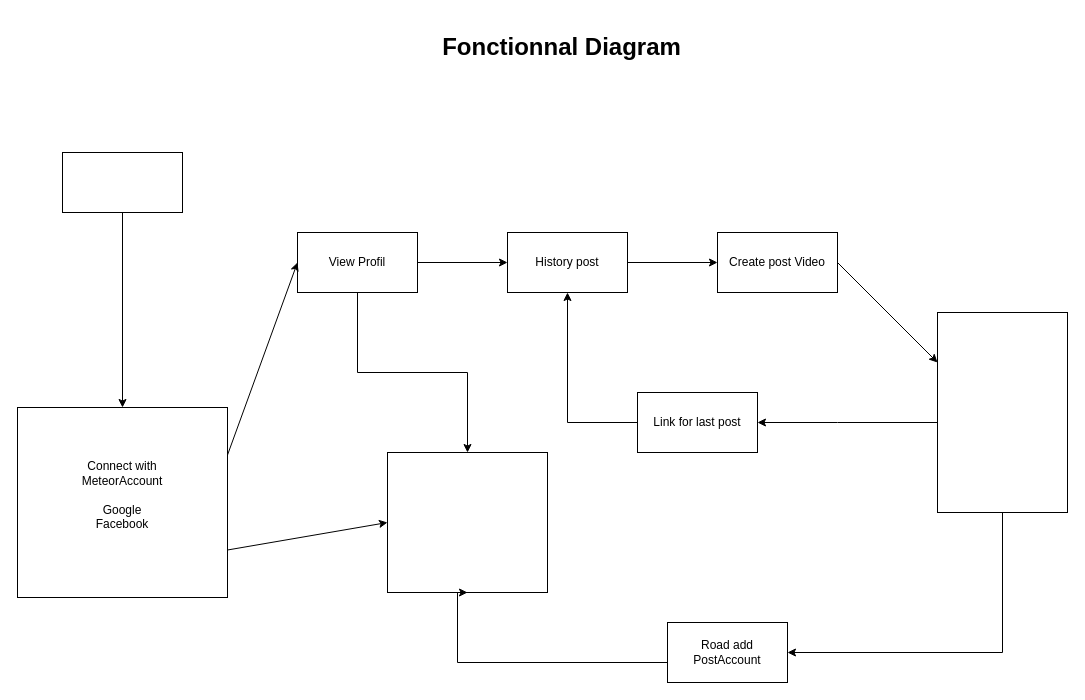
The diagram is 1085 pixels wide and 700 high, and some of its shapes have lost their labels. Each missing label, with the box of its shape:
Create / Update profil: (386, 452, 548, 592)
Home page: (62, 152, 182, 212)
Select Plateforme Twitch Youtube Tweter: (936, 312, 1068, 512)
